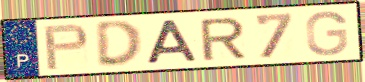7: (254, 11, 296, 60)
A: (145, 18, 201, 66)
D: (93, 19, 145, 69)
G: (304, 9, 350, 57)
P: (42, 22, 92, 72)
R: (197, 15, 248, 62)
